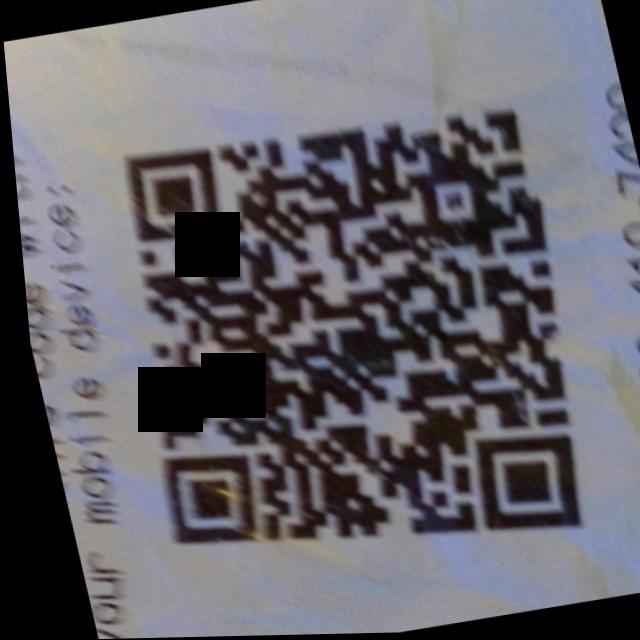QR_CODE: (60, 66, 616, 611)
